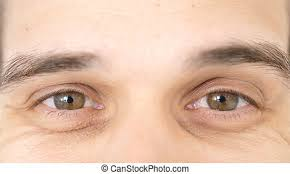e.brown: (55, 90, 84, 115)
